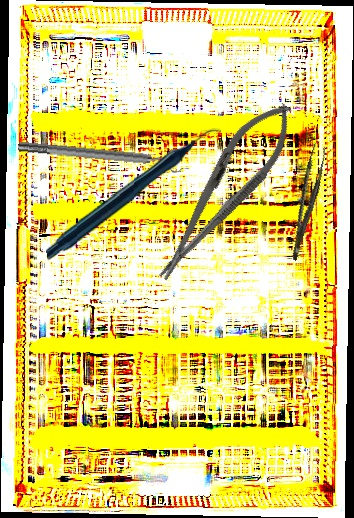Fixation Ring: (17, 131, 183, 176)
Handpiece: (44, 127, 224, 262)
Needle Holder: (140, 90, 308, 293)
Tissue Forceps: (278, 142, 333, 262)
